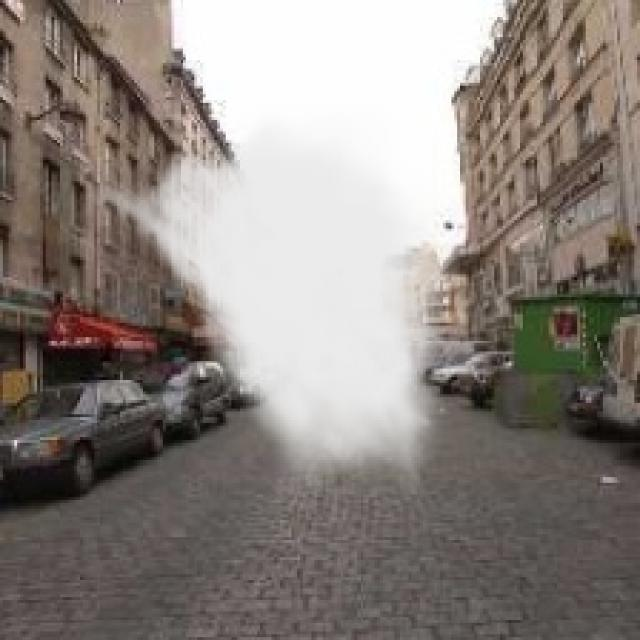Smoke: (80, 103, 460, 500)
